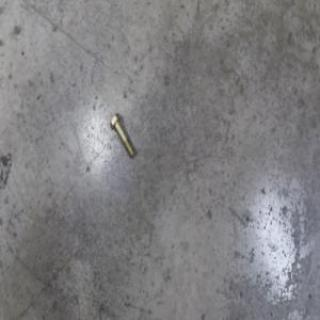Bolttrack_idkeyframe: (108, 112, 134, 158)
